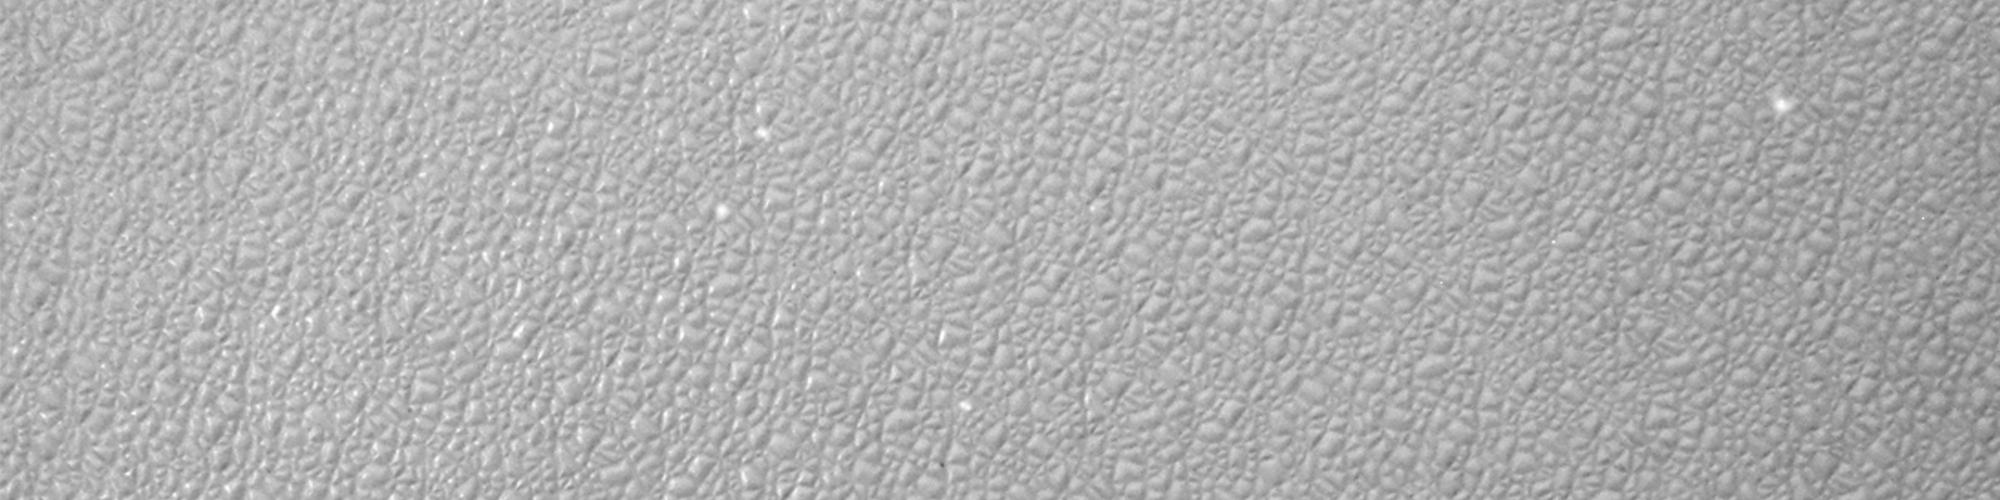Particles: (1772, 94, 1798, 117), (712, 200, 737, 221), (953, 398, 980, 415)
